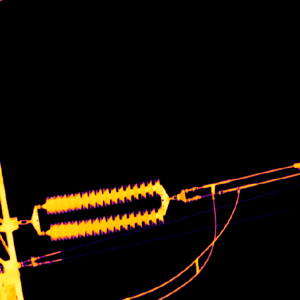insulator: (42, 181, 166, 238)
